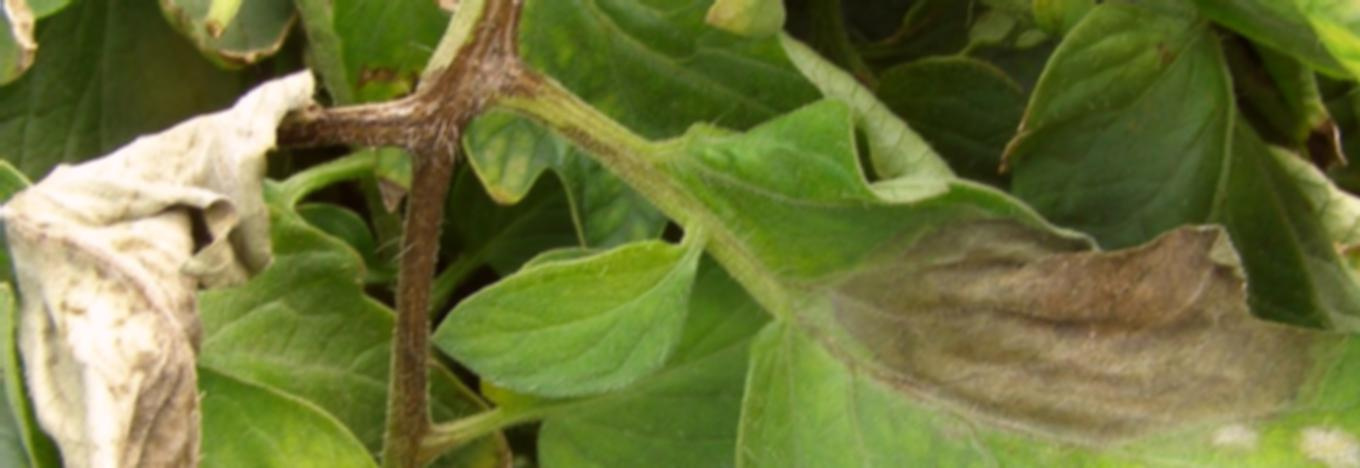Tomato mold leaf: (715, 101, 1360, 468), (422, 219, 710, 410)
